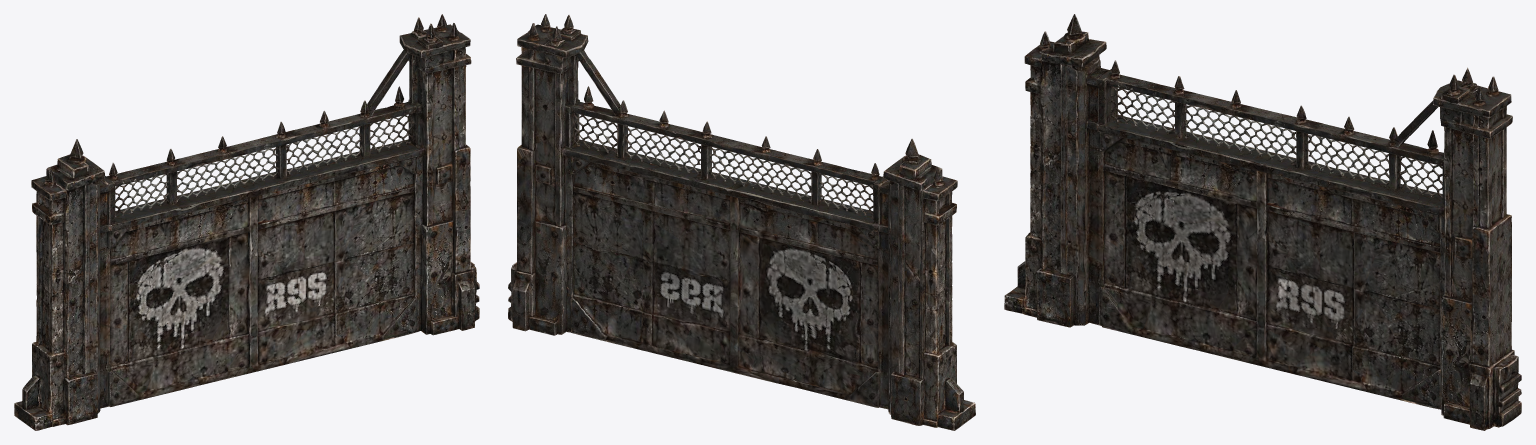
File: skull_gate.glb
The picture shows the model from 3 angles, left to right: view 1: azimuth 30°, elevation 25°; view 2: azimuth 150°, elevation 25°; view 3: azimuth 330°, elevation 25°; orthographic projection. The views are drawn at different scales.
Bounding box in the file's own units: 1.9 × 1.25 × 0.216.
Materials: 1 (1 with a texture image).
